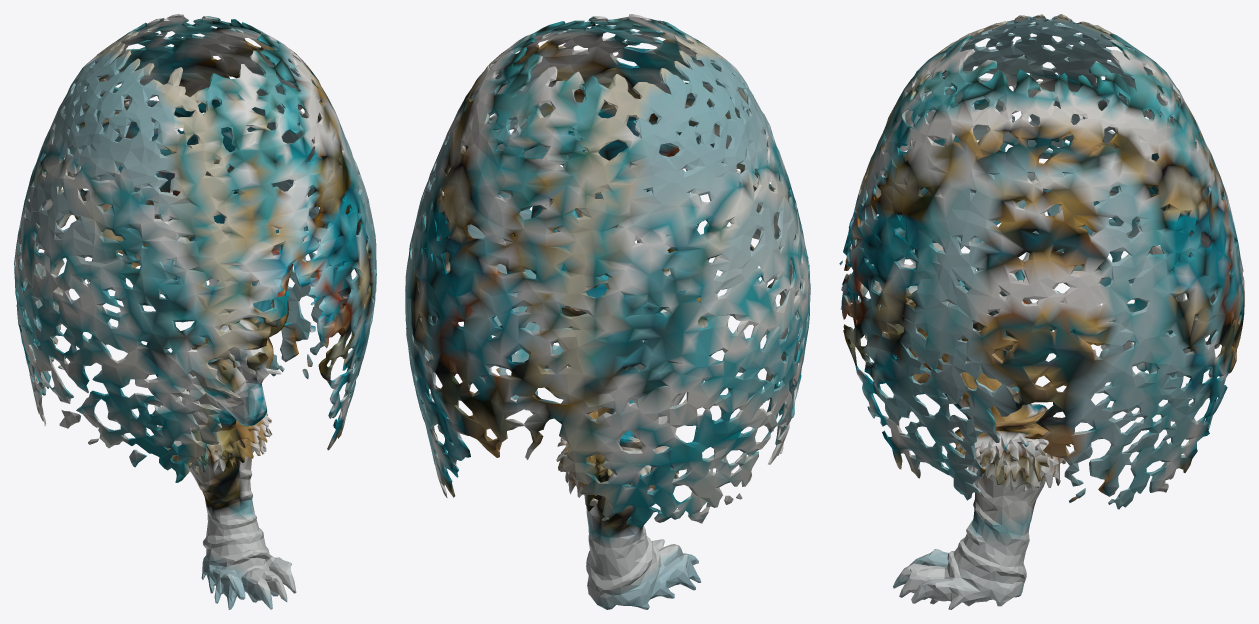
The model's file is slimeLord.glb.
3 renders of one model, left to right at view 1: azimuth 30°, elevation 25°; view 2: azimuth 150°, elevation 25°; view 3: azimuth 270°, elevation 25°, orthographic. The views are drawn at different scales.
Visible parts, largest first — view 1: world; view 2: world; view 3: world.
Part boxes in pixels (x1,y1,x2,y2): world: (14, 14, 376, 609); world: (405, 14, 810, 609); world: (839, 14, 1244, 609).
Size of the model in its own units: 0.6439 by 1 by 0.6718.
